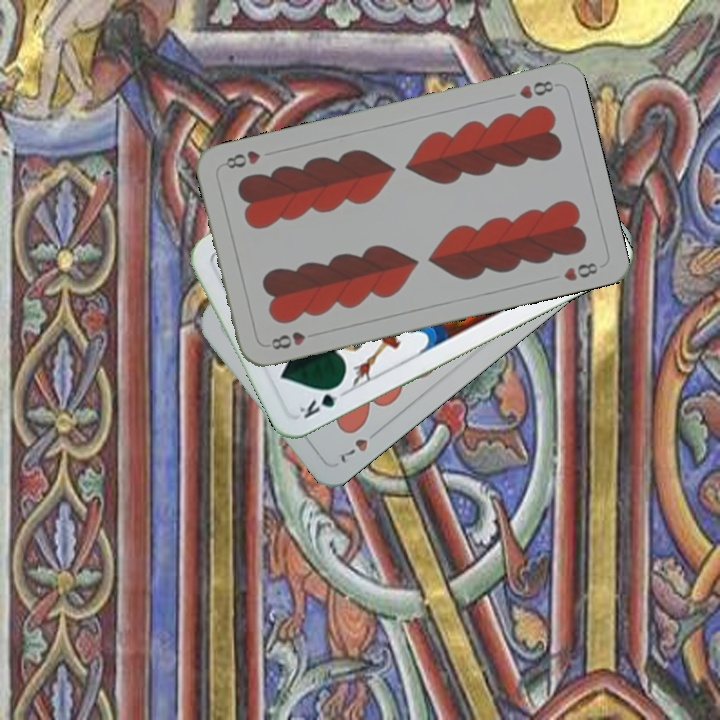GK: (295, 379, 350, 421)
H7: (334, 424, 384, 466)
H8: (515, 76, 560, 102), (263, 327, 309, 352)
